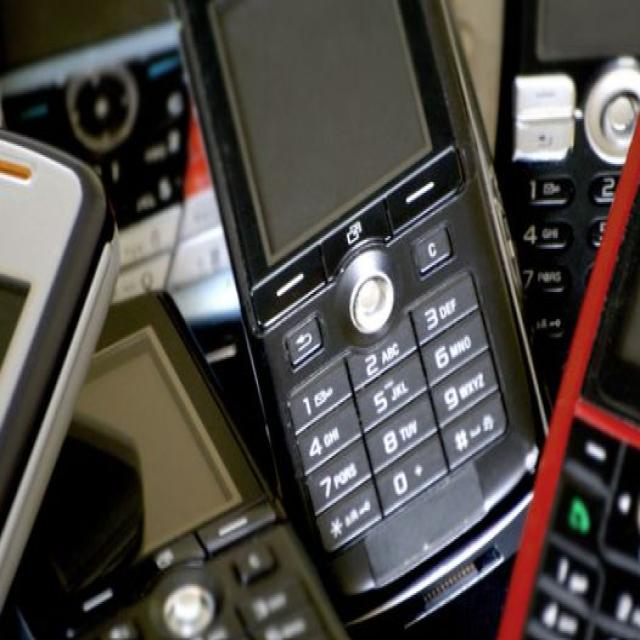electronic: (172, 2, 576, 630)
